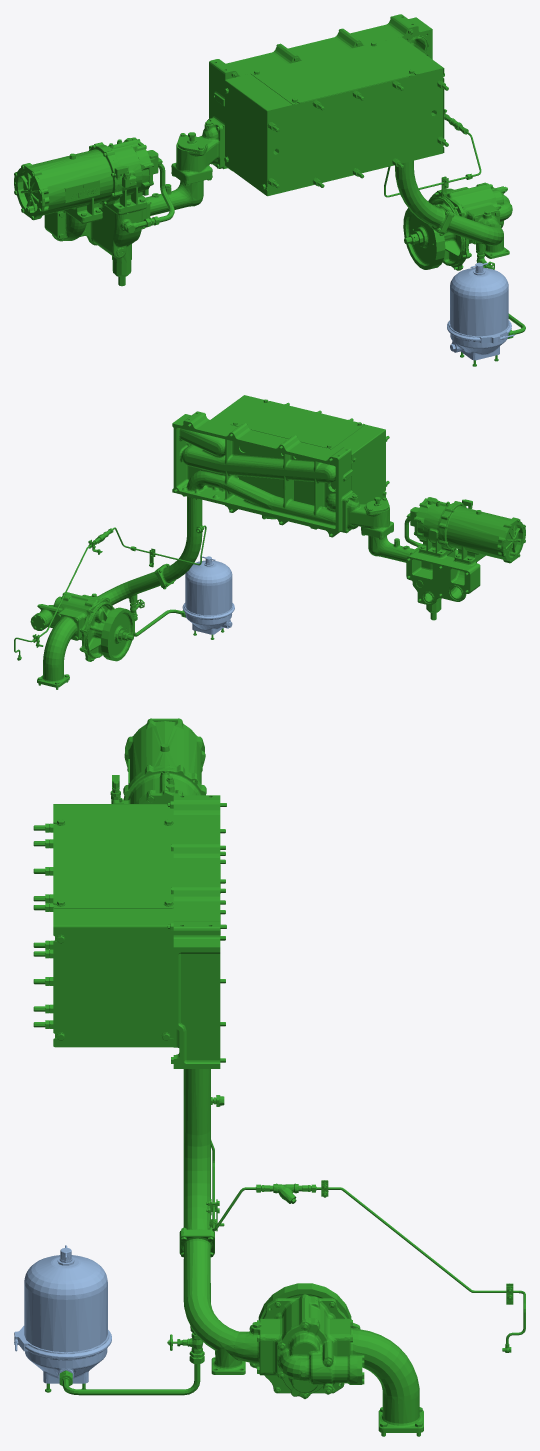
Rendered from LubricatingOilSystem.glb.
3 renders of one model, top to bottom at view 1: azimuth 30°, elevation 25°; view 2: azimuth 150°, elevation 25°; view 3: azimuth 270°, elevation 25°, orthographic. The views are drawn at different scales.
Visible parts, largest first — view 1: PlateHeatExchanger, LOAutomaticBackWashFilter, CentrifugaloilFilter, LOPumpPiping, LOPump, LOFilterFitting, LOThermpstatValve_; view 2: PlateHeatExchanger, LOPumpPiping, LOAutomaticBackWashFilter, LOPump, LOFilterFitting, CentrifugaloilFilter, LOThermpstatValve_; view 3: PlateHeatExchanger, LOPumpPiping, CentrifugaloilFilter, LOPump, LOAutomaticBackWashFilter.
Boxes of the visible parts, x1=… form: PlateHeatExchanger: x1=209, y1=14, x2=448, y2=196; LOAutomaticBackWashFilter: x1=14, y1=137, x2=162, y2=220; CentrifugaloilFilter: x1=447, y1=262, x2=514, y2=360; LOPumpPiping: x1=384, y1=109, x2=525, y2=366; LOPump: x1=403, y1=182, x2=512, y2=270; LOFilterFitting: x1=44, y1=164, x2=174, y2=286; LOThermpstatValve_: x1=142, y1=118, x2=223, y2=218; PlateHeatExchanger: x1=172, y1=395, x2=389, y2=537; LOPumpPiping: x1=14, y1=495, x2=224, y2=689; LOAutomaticBackWashFilter: x1=406, y1=497, x2=525, y2=563; LOPump: x1=30, y1=592, x2=134, y2=661; LOFilterFitting: x1=404, y1=518, x2=485, y2=620; CentrifugaloilFilter: x1=182, y1=556, x2=234, y2=634; LOThermpstatValve_: x1=343, y1=492, x2=421, y2=562; PlateHeatExchanger: x1=33, y1=795, x2=226, y2=1068; LOPumpPiping: x1=45, y1=1069, x2=525, y2=1436; CentrifugaloilFilter: x1=14, y1=1245, x2=111, y2=1383; LOPump: x1=249, y1=1283, x2=364, y2=1398; LOAutomaticBackWashFilter: x1=110, y1=718, x2=206, y2=803.
Size of the model in its own units: 3.11 by 1.72 by 1.81.
